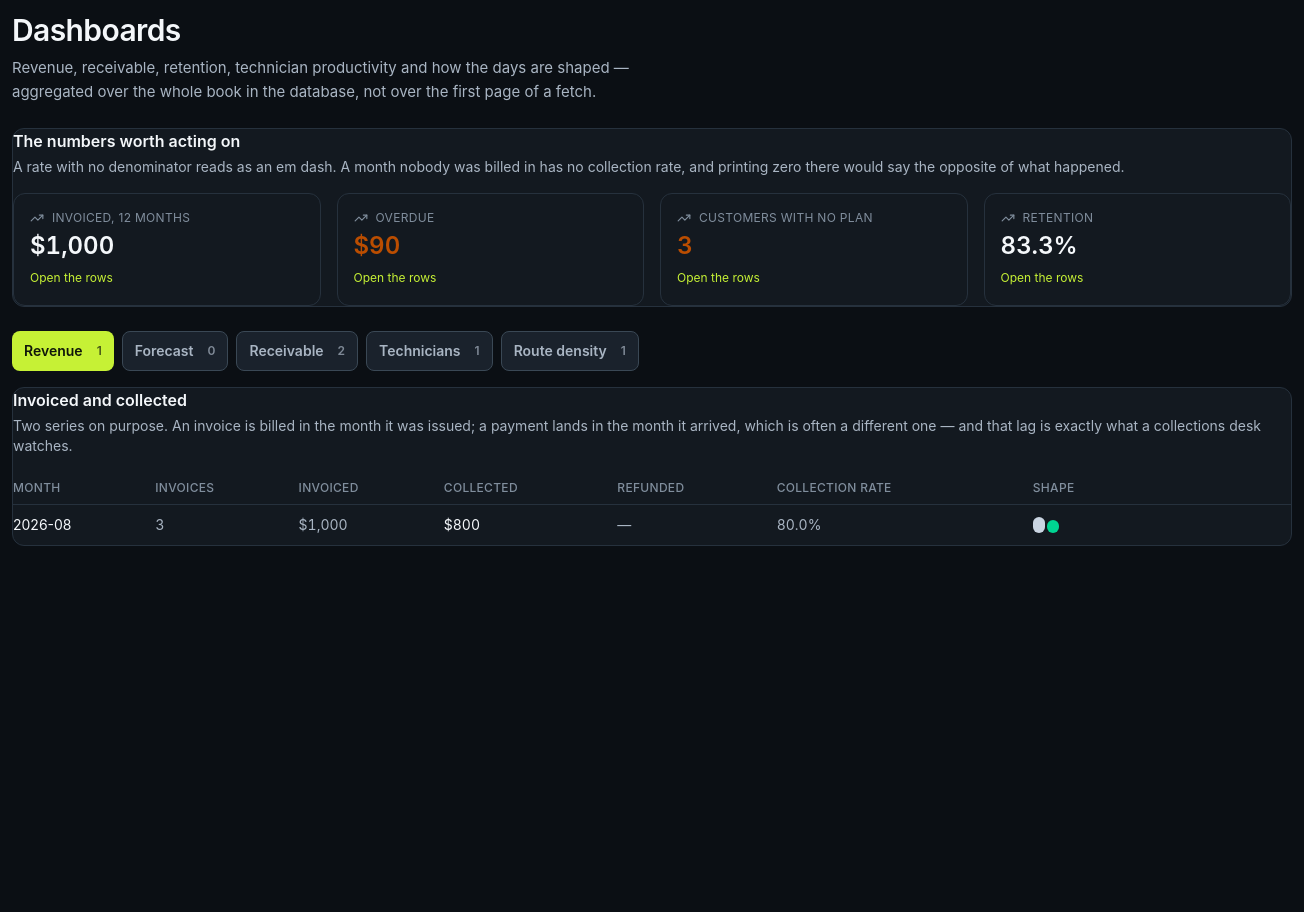
the dashboards drill-down › opens the rows behind a tile with the figure's key, and renders them
Expected: the element with test id "services-dashboard-figures" is shown, [13,193,1291,306]
What coordinates should you click on to do the following:
click the button with aria-label "Open the rows behind Overdue"
I would click on:
 (395, 278)
Its box is [354,270,436,286].
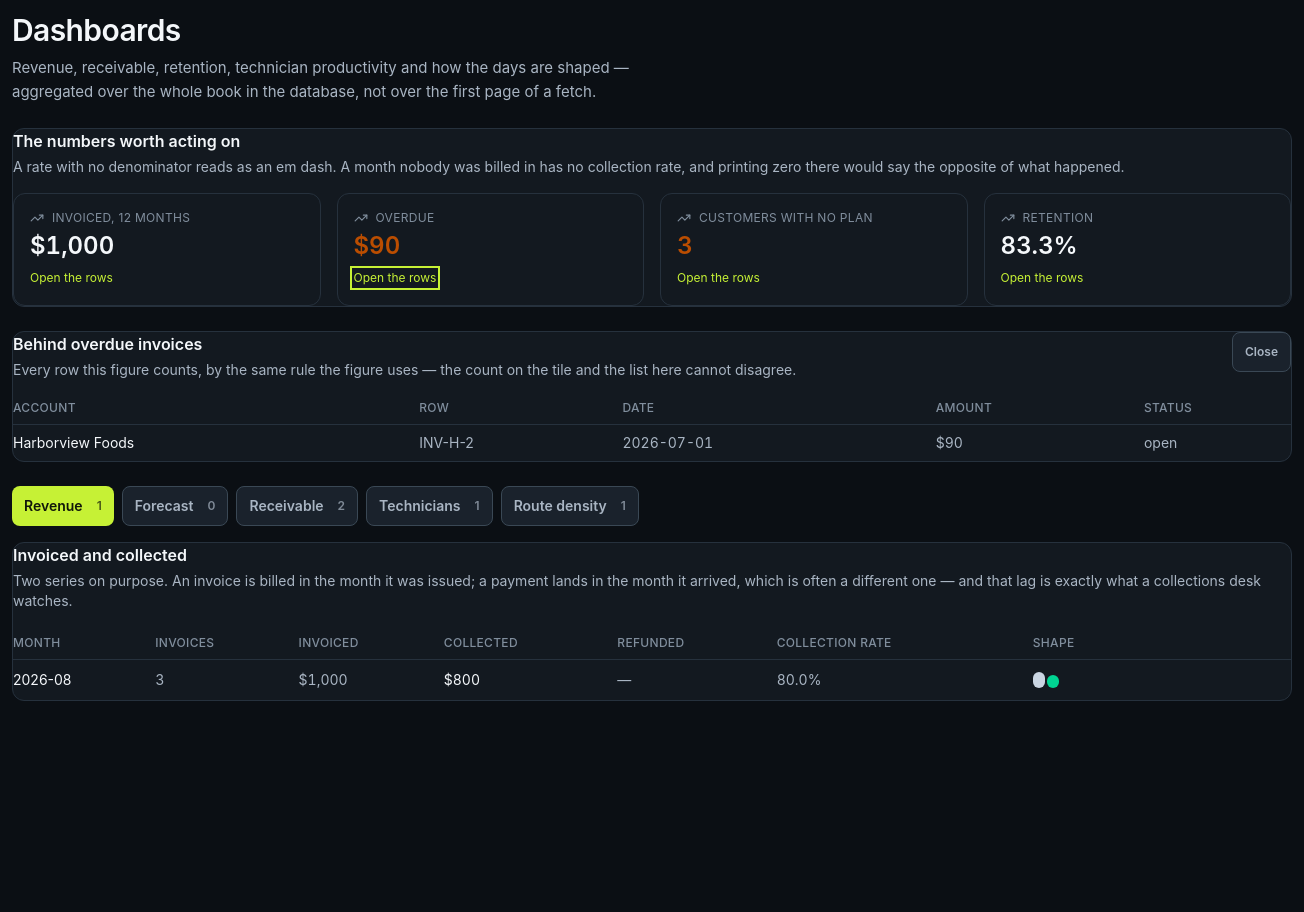
Now the heading "Behind overdue invoices" is shown, box [13,334,202,354]
Now the text "INV-H-2" is shown, box [419,424,622,461]
Now the text "Harborview Foods" is shown, box [13,424,419,461]
What coordinates should you click on to do the following:
click the button "Close"
I would click on:
 (1262, 352)
Its box is [1232,332,1291,372].
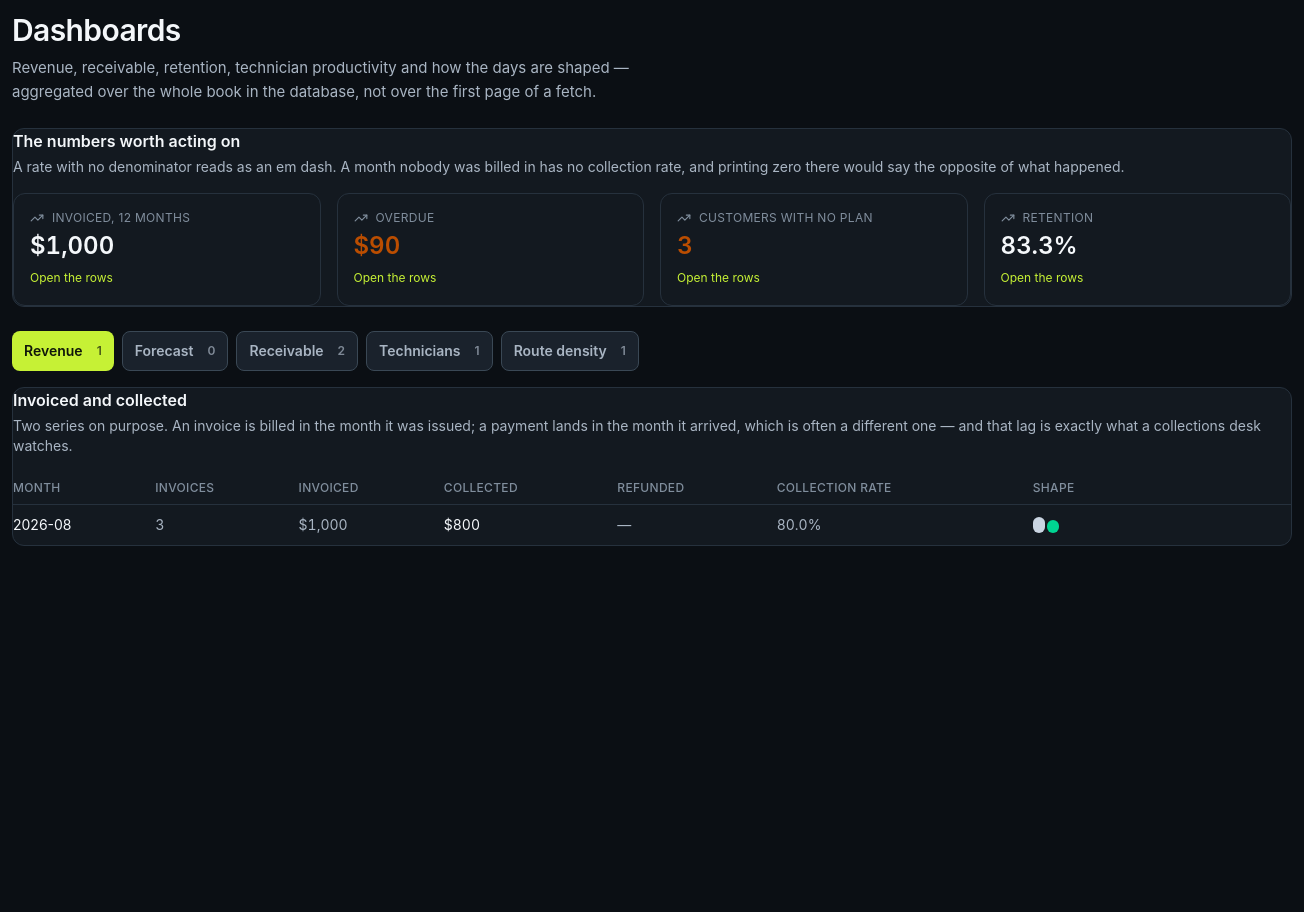
Now the element with test id "services-dashboard-rows" is gone
